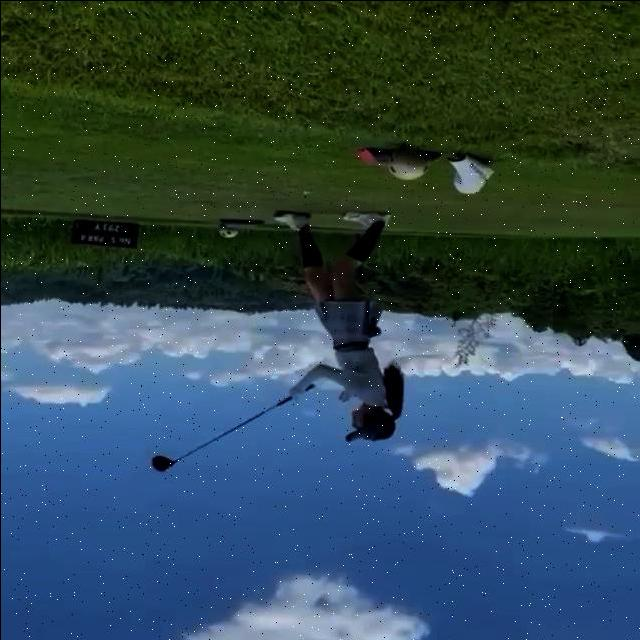ClubHandle: (152, 383, 314, 470)
ClubHead: (152, 454, 172, 470)
